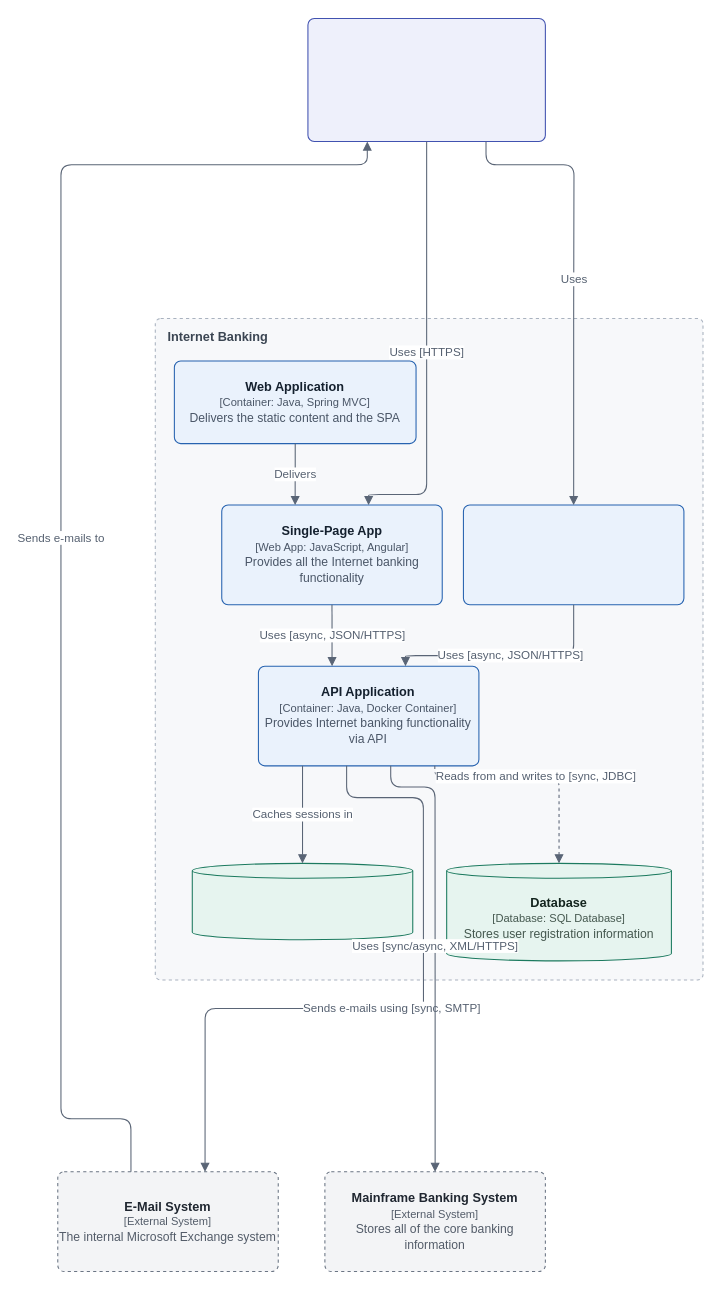
The diagram is 722 pixels wide and 1290 high, and some of its shapes have lost their labels. The shapes that lost their labels are listed below. From the top down, each one's centre as x and y in pixels, then its label:
At (426,79): "Customer [Person] A customer of the bank, with personal bank accounts".
At (573,554): "Mobile App [Mobile App: C#, Xamarin] Provides a limited subset of functionality".
At (302,901): "Session Cache [Cache: Redis]".
